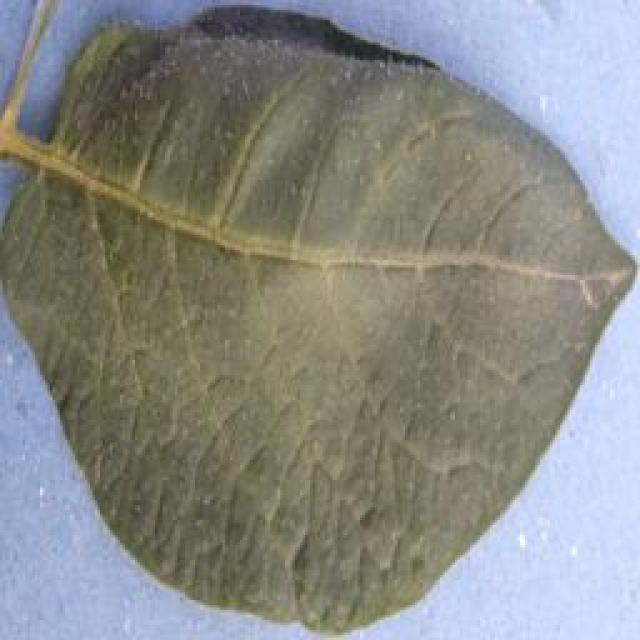Potato_Healthy: (8, 8, 636, 634)
